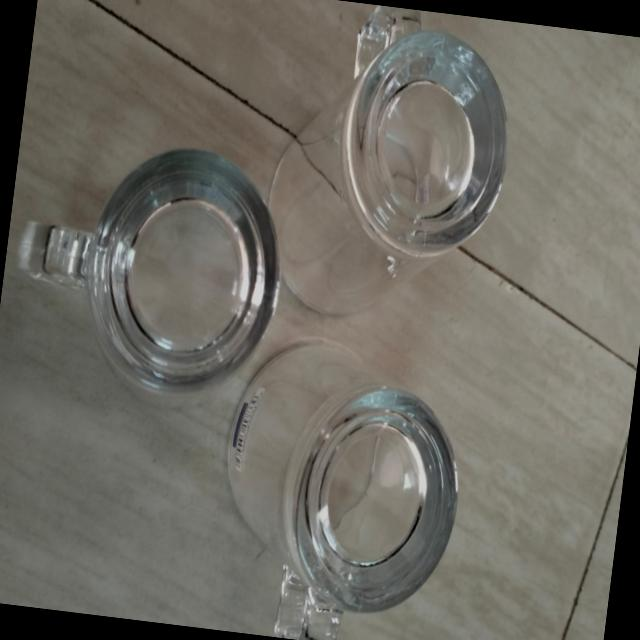glass-VX4N: (203, 315, 490, 640), (0, 126, 297, 419), (275, 0, 520, 324)
